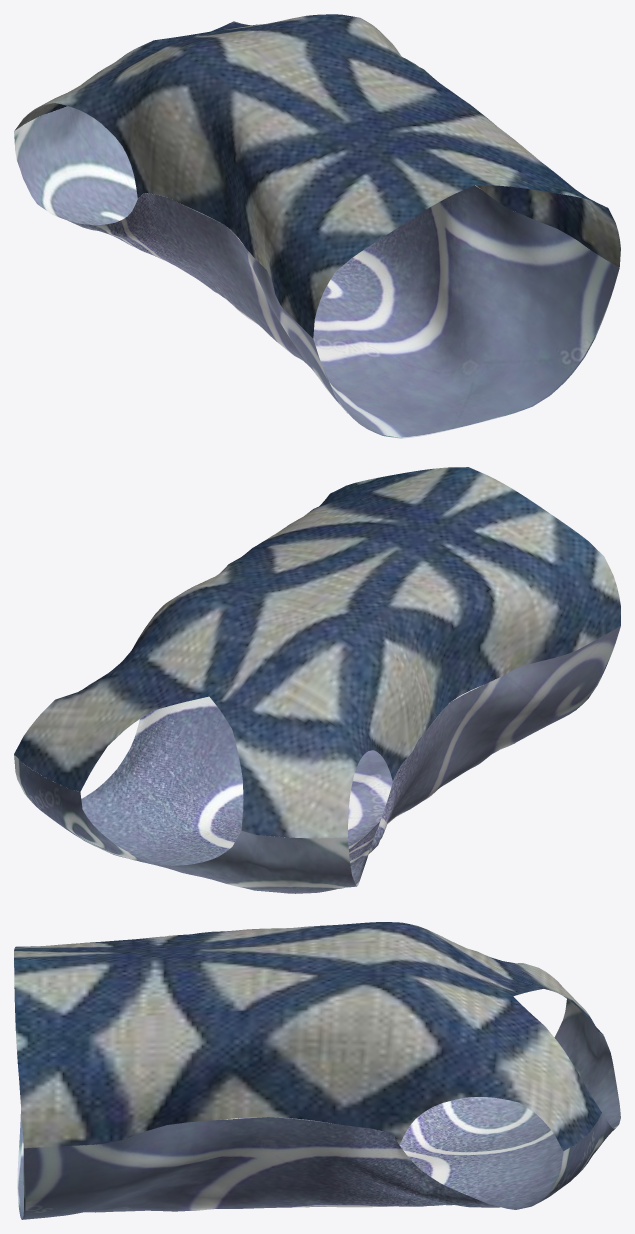
Rendered from textured_tshirt.fbx.
3 views of the same model, one above another, from view 1: azimuth 30°, elevation 25°; view 2: azimuth 150°, elevation 25°; view 3: azimuth 270°, elevation 25° (orthographic). The views are drawn at different scales.
Parts seen in each view (by area): view 1: test:Mesh; view 2: test:Mesh; view 3: test:Mesh.
Part boxes in pixels (x1,y1,x2,y2): test:Mesh: (14, 14, 620, 438); test:Mesh: (14, 467, 620, 893); test:Mesh: (14, 922, 620, 1219).
Size of the model in its own units: 14.23 by 10.21 by 23.28.
2 materials, 2 textured.
